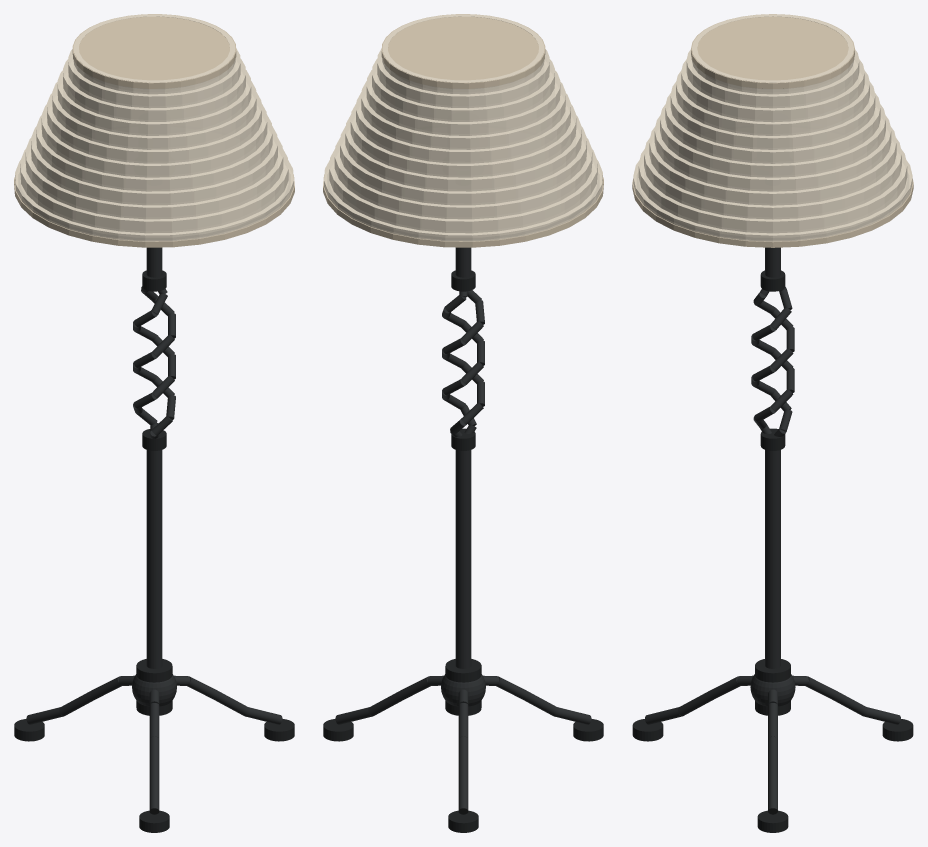
The picture shows the model from 3 angles, left to right: view 1: azimuth 30°, elevation 25°; view 2: azimuth 150°, elevation 25°; view 3: azimuth 270°, elevation 25°; orthographic projection.
Visible parts, largest first — view 1: geometry_0_cylinder.059, geometry_0_cylinder.047, geometry_0_cylinder.048, geometry_0_cylinder.049, geometry_0_cylinder.050, geometry_0_cylinder.051, geometry_0_cylinder.016, geometry_0_cylinder.052, geometry_0_cylinder.053, geometry_0_cylinder.054, geometry_0_cylinder.046, geometry_0_cylinder.055 (+8 smaller); view 2: geometry_0_cylinder.059, geometry_0_cylinder.047, geometry_0_cylinder.048, geometry_0_cylinder.049, geometry_0_cylinder.050, geometry_0_cylinder.051, geometry_0_cylinder.016, geometry_0_cylinder.052, geometry_0_cylinder.053, geometry_0_cylinder.054, geometry_0_cylinder.046, geometry_0_cylinder.055 (+8 smaller); view 3: geometry_0_cylinder.059, geometry_0_cylinder.047, geometry_0_cylinder.048, geometry_0_cylinder.049, geometry_0_cylinder.050, geometry_0_cylinder.051, geometry_0_cylinder.052, geometry_0_cylinder.016, geometry_0_cylinder.053, geometry_0_cylinder.054, geometry_0_cylinder.046, geometry_0_cylinder.055 (+8 smaller).
Boxes of the visible parts, x1,y1,x2,y2 form: geometry_0_cylinder.059: (72,14,236,88); geometry_0_cylinder.047: (20,148,288,233); geometry_0_cylinder.048: (25,137,283,219); geometry_0_cylinder.049: (31,126,277,205); geometry_0_cylinder.050: (36,115,272,191); geometry_0_cylinder.051: (41,103,267,177); geometry_0_cylinder.016: (146,450,162,668); geometry_0_cylinder.052: (47,92,261,163); geometry_0_cylinder.053: (52,81,256,149); geometry_0_cylinder.054: (57,70,251,135); geometry_0_cylinder.046: (15,160,293,241); geometry_0_cylinder.055: (63,59,245,121); geometry_0_cylinder.059: (381,14,545,88); geometry_0_cylinder.047: (329,148,597,233); geometry_0_cylinder.048: (334,137,592,219); geometry_0_cylinder.049: (340,126,586,205); geometry_0_cylinder.050: (345,115,581,191); geometry_0_cylinder.051: (350,103,576,177); geometry_0_cylinder.016: (455,450,471,668); geometry_0_cylinder.052: (356,92,570,163); geometry_0_cylinder.053: (361,81,565,149); geometry_0_cylinder.054: (366,70,560,135); geometry_0_cylinder.046: (324,160,602,241); geometry_0_cylinder.055: (372,59,554,121); geometry_0_cylinder.059: (691,14,854,88); geometry_0_cylinder.047: (638,149,907,233); geometry_0_cylinder.048: (644,138,901,219); geometry_0_cylinder.049: (649,126,896,205); geometry_0_cylinder.050: (654,115,891,191); geometry_0_cylinder.051: (660,104,885,177); geometry_0_cylinder.052: (665,93,880,163); geometry_0_cylinder.016: (765,450,780,668); geometry_0_cylinder.053: (670,81,875,149); geometry_0_cylinder.054: (676,70,869,135); geometry_0_cylinder.046: (633,160,912,241); geometry_0_cylinder.055: (681,59,864,122).
Size of the model in its own units: 0.666 by 1.75 by 0.624.
